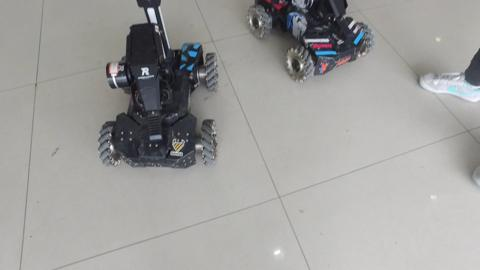chariot: (95, 1, 224, 173), (247, 1, 382, 85)
